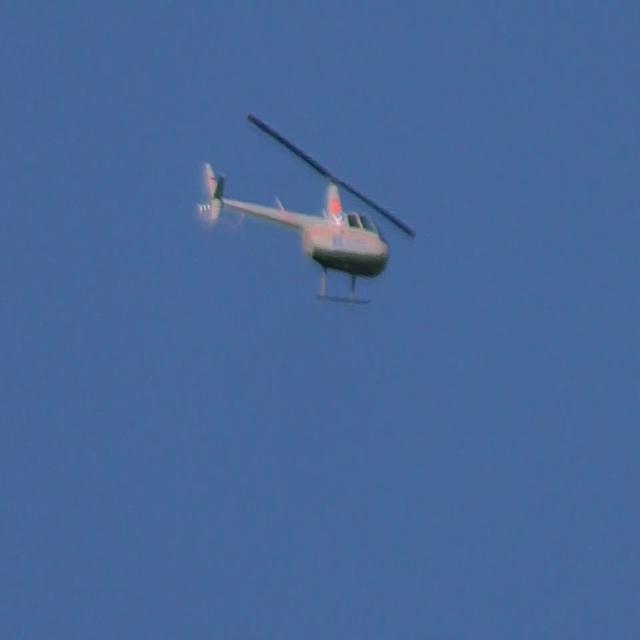CIV_HELO: (199, 158, 391, 307)
